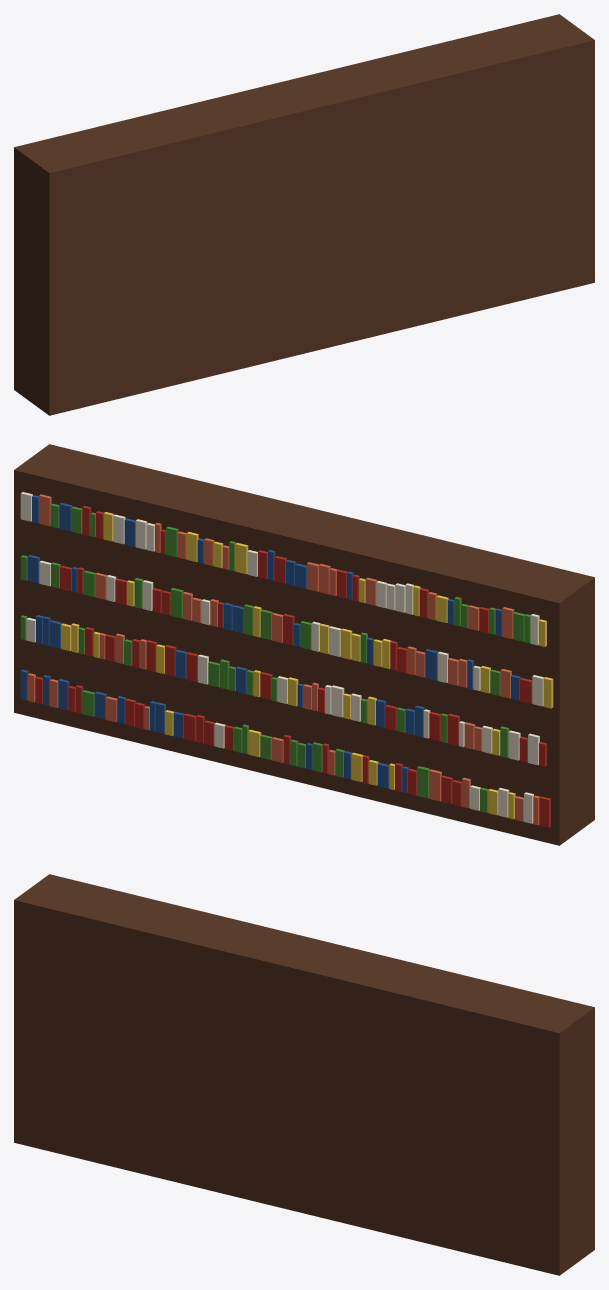
File: snacks.glb
The picture shows the model from 3 angles, top to bottom: view 1: azimuth 30°, elevation 25°; view 2: azimuth 150°, elevation 25°; view 3: azimuth 330°, elevation 25°; orthographic projection.
Parts seen in each view (by area): view 1: Box1; view 2: Box1; view 3: Box1.
Part boxes in pixels (x1,y1,x2,y2): Box1: [14, 14, 594, 415]; Box1: [14, 444, 594, 845]; Box1: [14, 874, 594, 1275].
Size of the model in its own units: 4 by 1.7 by 0.475.
